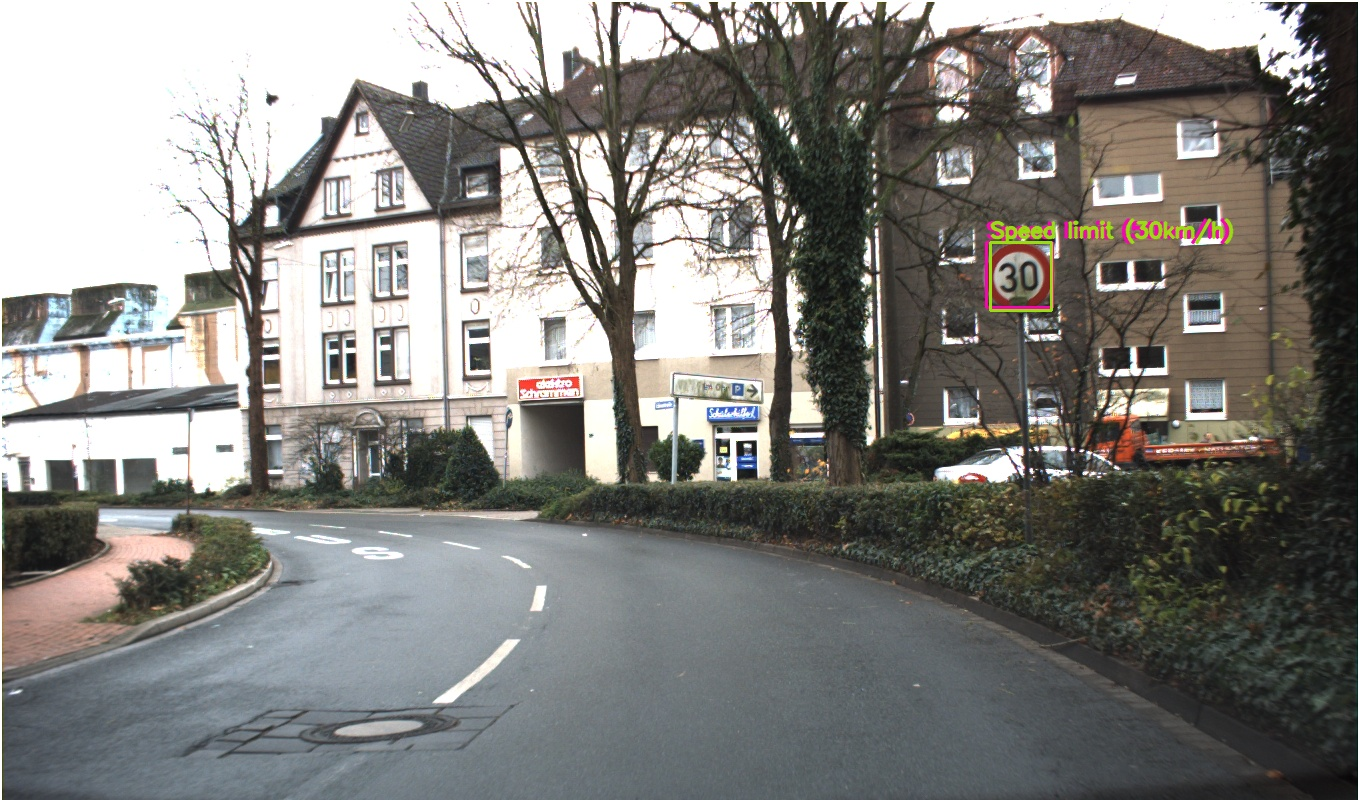Speed limit (80km/h): (843, 429, 870, 456), (204, 452, 229, 479)
